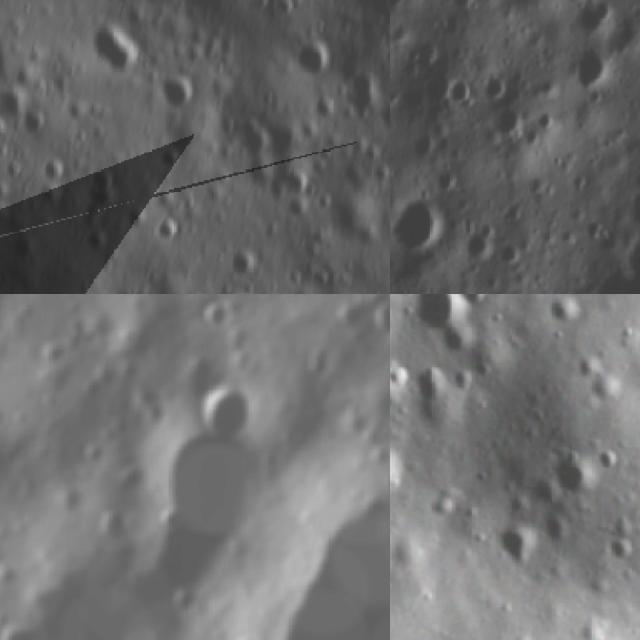crater: (256, 468, 390, 640), (136, 406, 292, 544), (39, 536, 194, 640), (189, 373, 269, 442), (541, 450, 608, 504), (485, 520, 543, 577), (398, 294, 465, 340), (558, 50, 621, 92), (280, 28, 332, 74), (396, 198, 448, 239), (97, 501, 140, 544), (98, 17, 134, 68), (390, 444, 416, 513), (438, 322, 482, 361), (197, 294, 234, 336), (73, 375, 109, 412), (36, 336, 70, 374), (58, 480, 92, 518), (0, 614, 48, 640), (117, 459, 146, 497), (390, 354, 407, 417), (342, 406, 372, 441), (303, 348, 332, 382), (164, 75, 192, 107), (371, 297, 390, 340), (368, 434, 390, 469), (452, 294, 495, 309)
